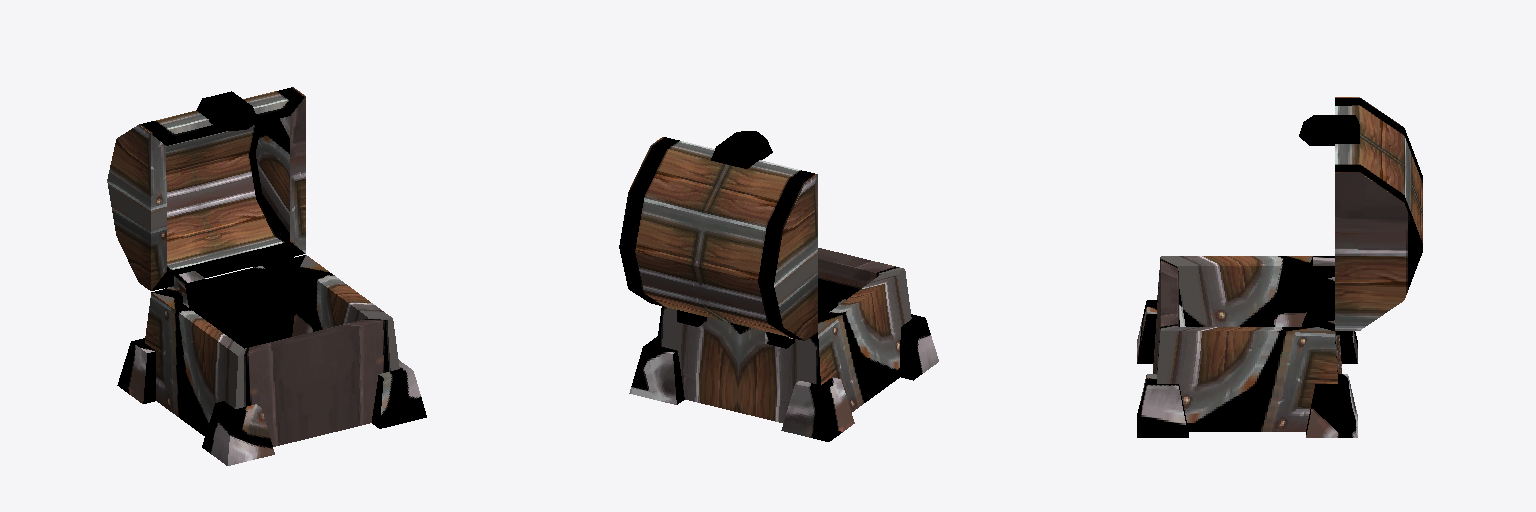
3 renders of one model, left to right at view 1: azimuth 30°, elevation 25°; view 2: azimuth 150°, elevation 25°; view 3: azimuth 270°, elevation 25°, orthographic.
Bounding box in the file's own units: 7.82 × 9.99 × 9.69.
1 materials, 1 textured.